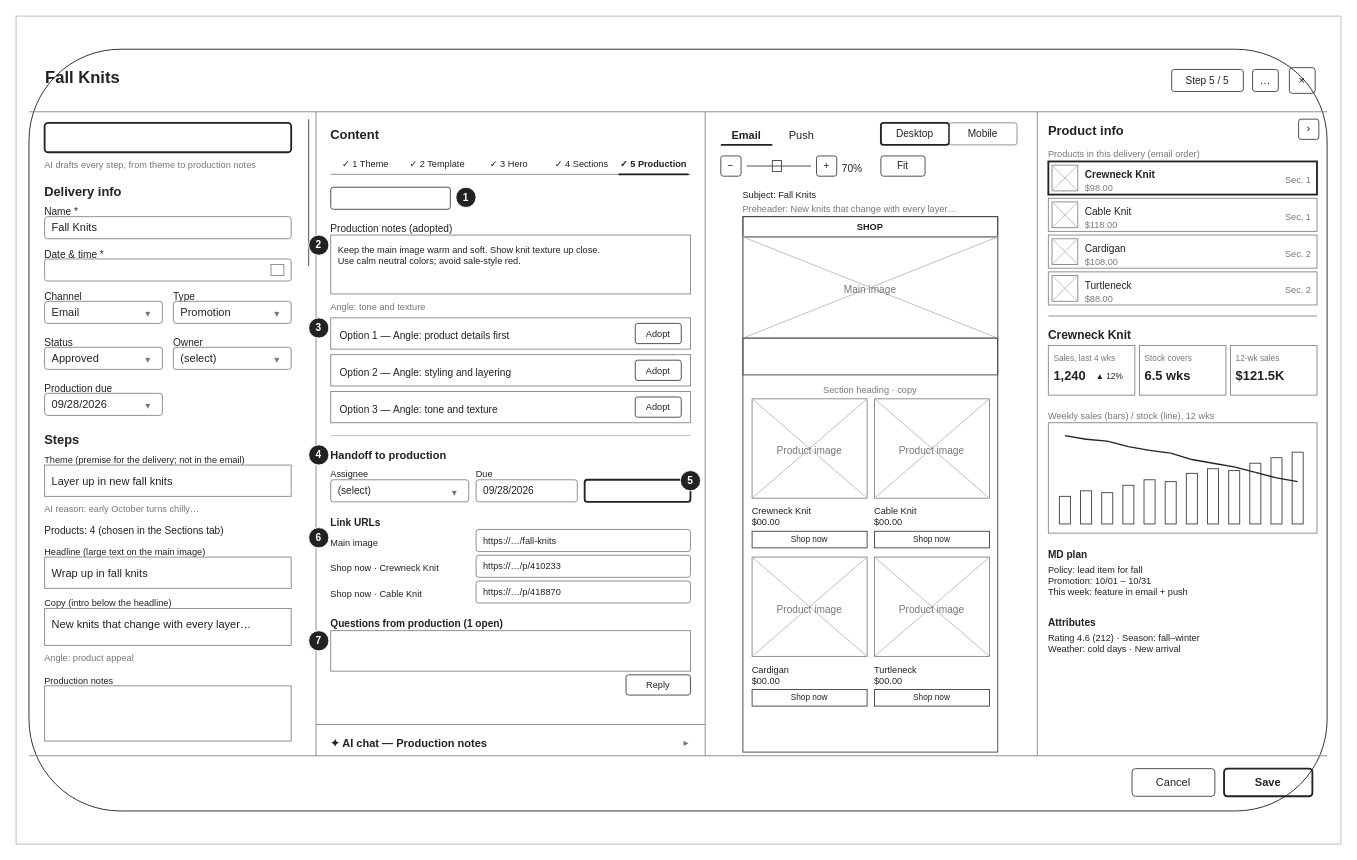
This 1357x860 diagram has some shape labels left out. Here are the shapes that lost their labels. From the top down, the box of each, then its label:
(43, 121, 292, 153): ✦ Draft all with AI
(330, 186, 450, 209): ✦ Suggest with AI
(44, 258, 291, 281): 10/02/2026 10:00 AM
(742, 337, 998, 375): Headline Copy
(583, 478, 691, 502): Notify production
(330, 630, 690, 671): Q: Use the cable knit close-up for the hero? A: (reply)
(44, 685, 291, 741): (notes for the production team)
